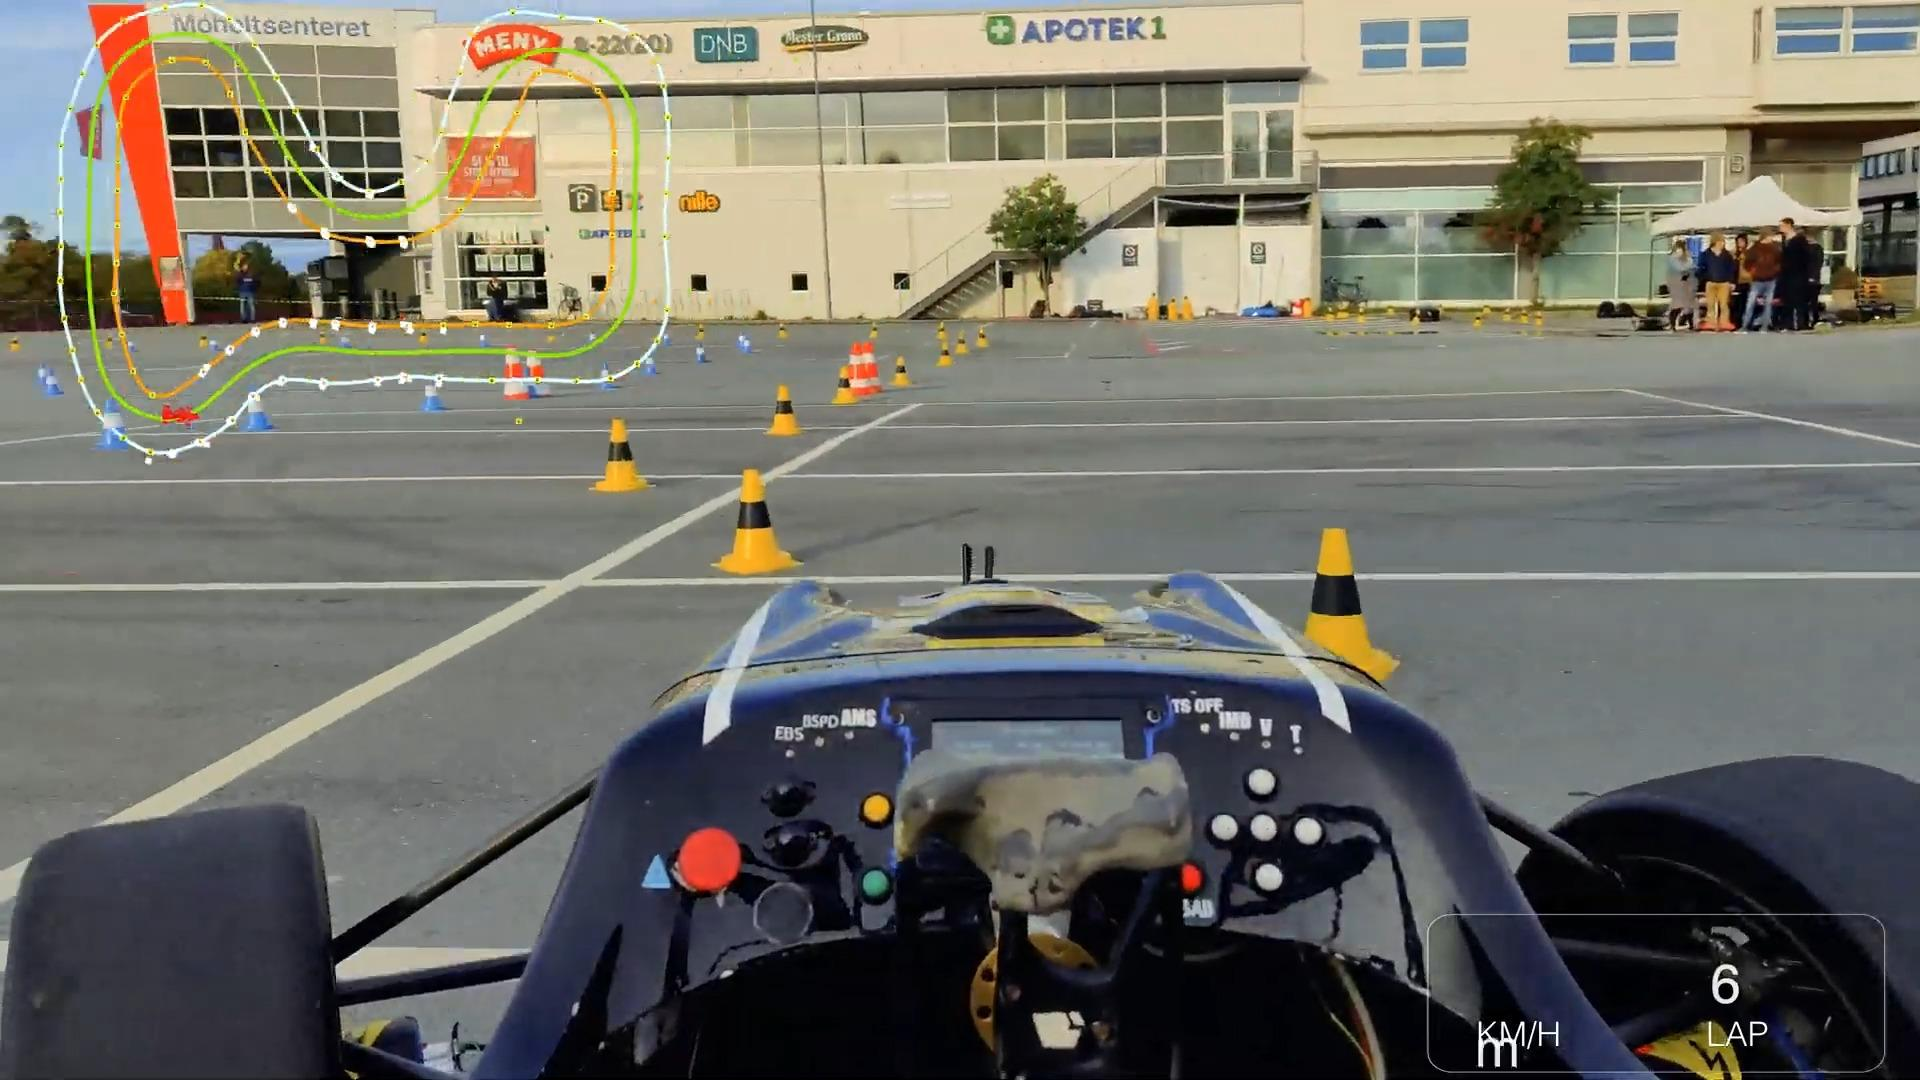blue_cone: (90, 394, 133, 454), (236, 385, 276, 438), (421, 381, 446, 415), (42, 369, 66, 398), (597, 363, 620, 390), (642, 345, 659, 380), (32, 361, 53, 389), (524, 373, 538, 398), (694, 344, 711, 364), (742, 338, 754, 355), (737, 331, 746, 349)
large_orange_cone: (500, 344, 531, 401), (845, 340, 874, 397), (860, 342, 886, 394), (526, 345, 551, 397)
yellow_cone: (1267, 512, 1414, 687), (703, 468, 810, 579), (584, 410, 659, 495), (762, 384, 807, 436), (831, 365, 857, 406), (891, 353, 915, 390), (932, 340, 956, 368), (973, 326, 992, 352), (955, 331, 972, 355), (931, 320, 951, 339), (695, 322, 709, 340), (777, 319, 790, 339), (868, 323, 881, 340)
